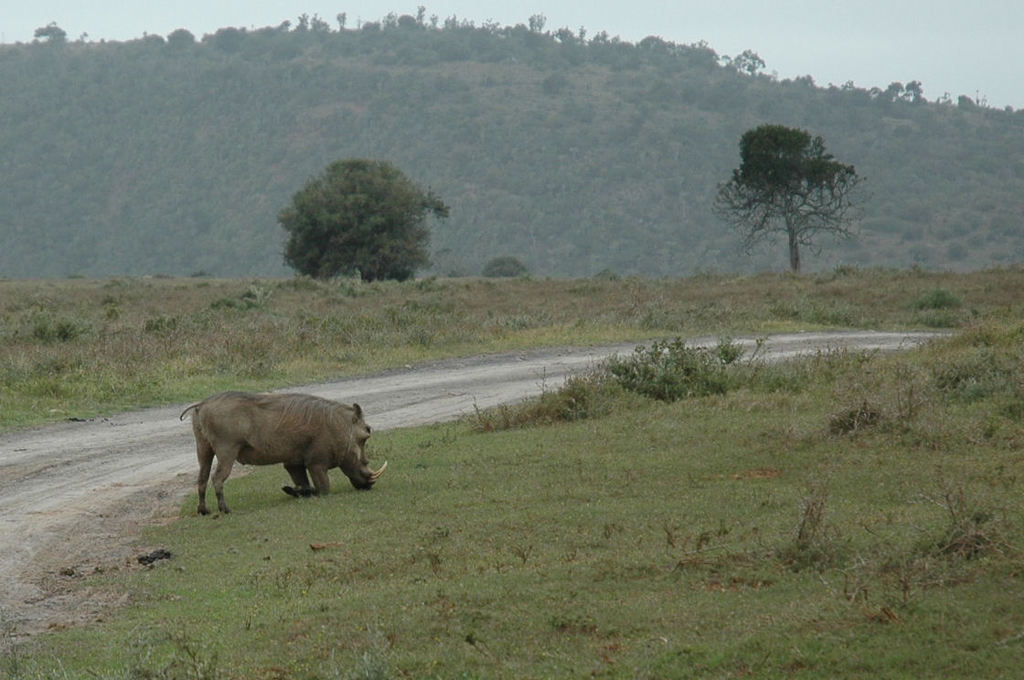Animal: (175, 388, 389, 515)
